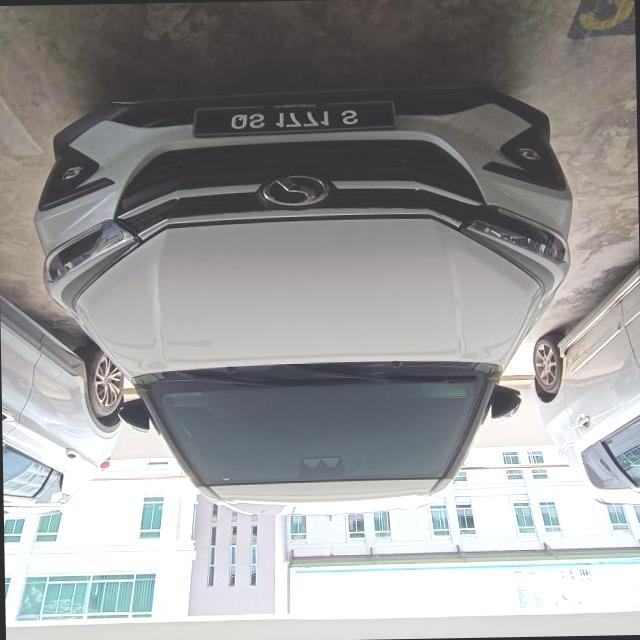PeroduaAtiva: (30, 84, 579, 523)
